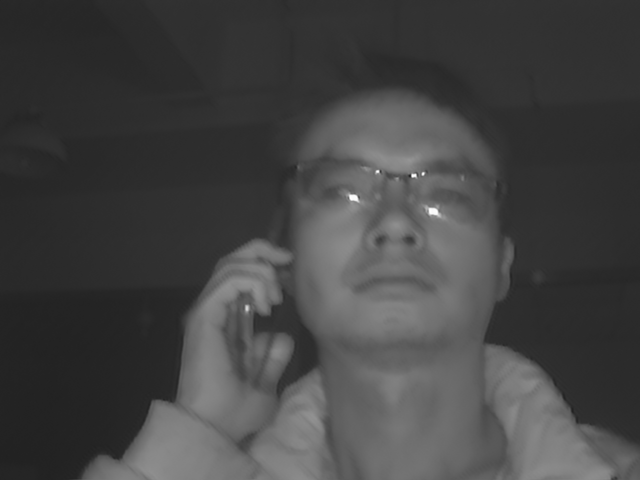hand: (165, 234, 297, 439)
